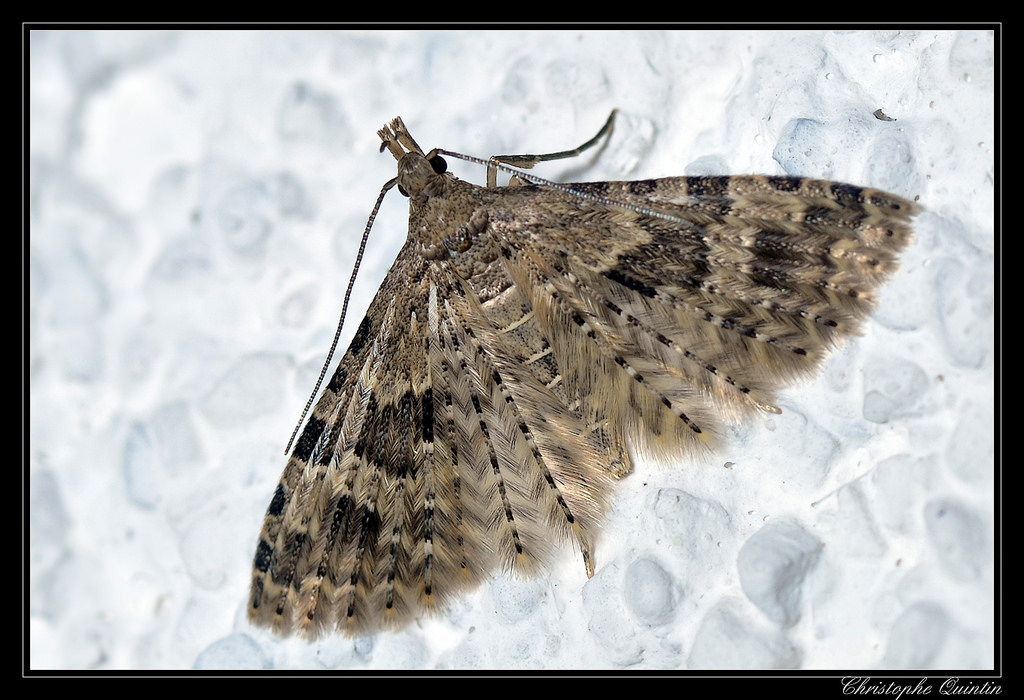Alucitidae: (247, 107, 921, 642)
moth: (245, 105, 919, 640)
